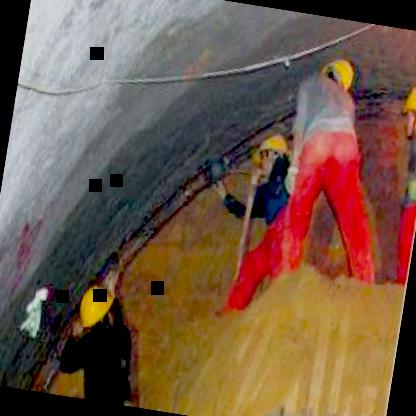helmet: (74, 280, 119, 336), (316, 53, 358, 104), (253, 132, 292, 176), (398, 80, 416, 146)
